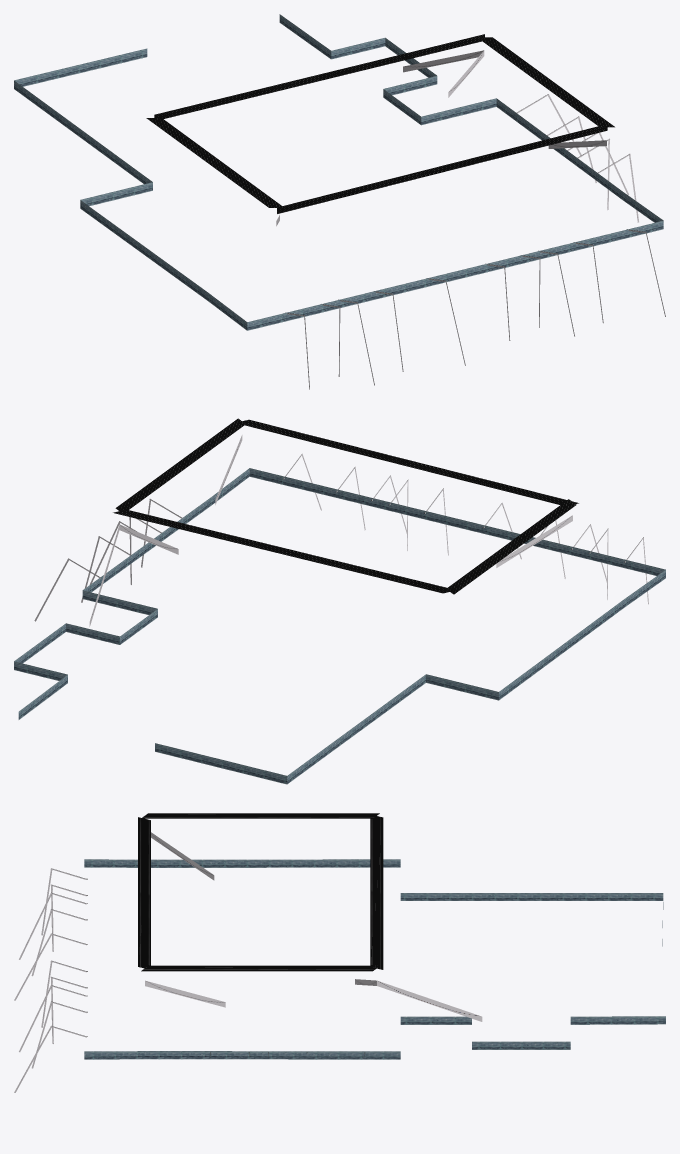
Rendered from pier04tr_law2.obj.
The picture shows the model from 3 angles, top to bottom: view 1: azimuth 30°, elevation 25°; view 2: azimuth 150°, elevation 25°; view 3: azimuth 270°, elevation 25°; orthographic projection. The views are drawn at different scales.
Visible parts, largest first — view 1: pier04Tr_LAw2; view 2: pier04Tr_LAw2; view 3: pier04Tr_LAw2.
Part boxes in pixels (x1,y1,x2,y2): pier04Tr_LAw2: (14, 14, 665, 389); pier04Tr_LAw2: (14, 418, 665, 784); pier04Tr_LAw2: (14, 813, 665, 1092).
Bounding box in the file's own units: 69.81 × 18.91 × 86.22.
